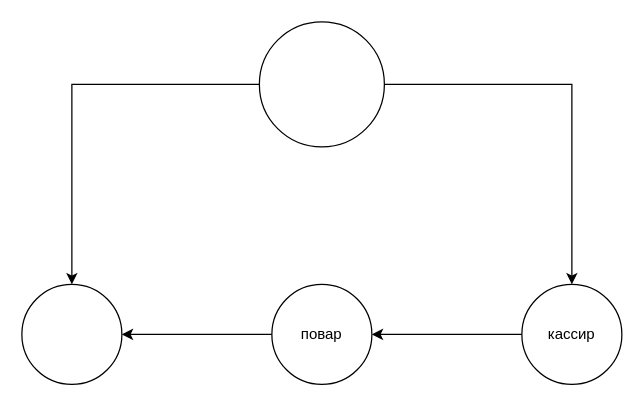
The diagram is 644 pixels wide and 406 high, and some of its shapes have lost their labels. Each missing label, with the centre of its shape:
"администратор" belongs at (321,84).
"завхоз" belongs at (71,333).
